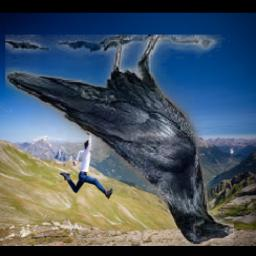Crow: (5, 36, 234, 246)
